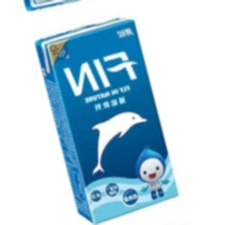鋁箔包: (28, 12, 183, 225), (0, 0, 128, 16), (81, 218, 225, 225)
